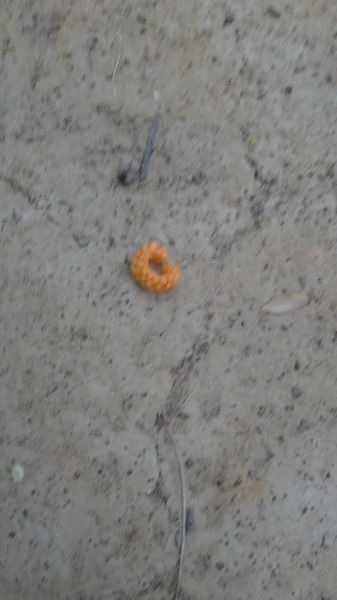eggs: (128, 237, 185, 302)
